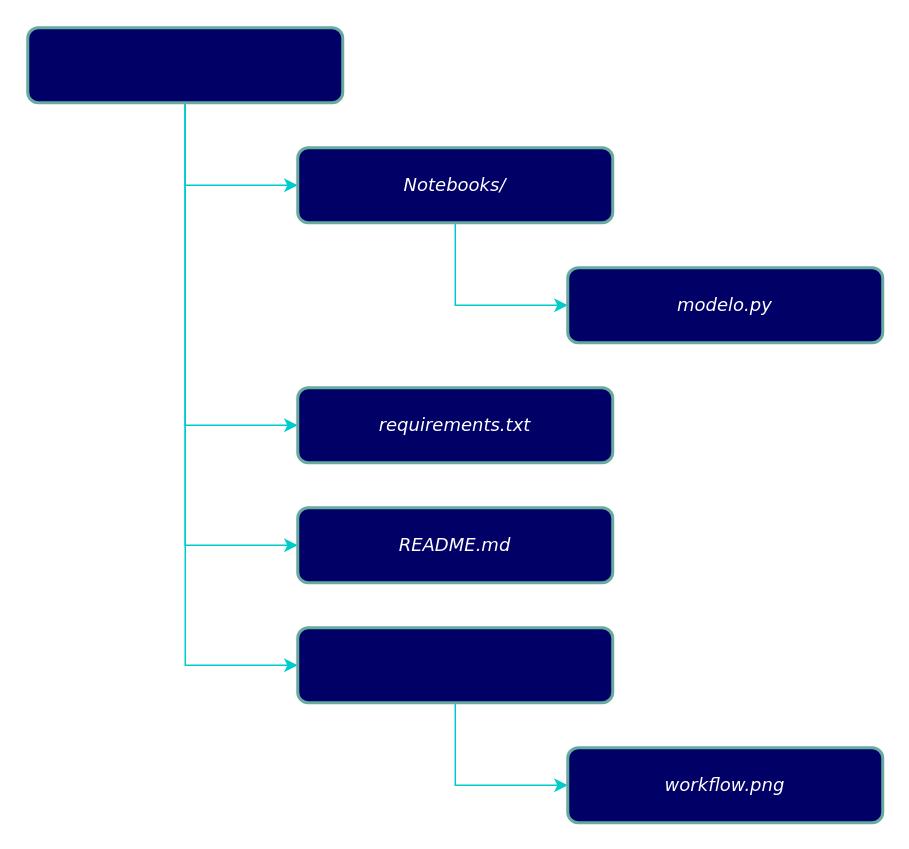
This 909x849 diagram has some shape labels left out. Each missing label, with the box of its shape:
diagrams/: (296, 626, 614, 704)
Estimación-precios-bienes-raices/: (26, 26, 344, 104)
